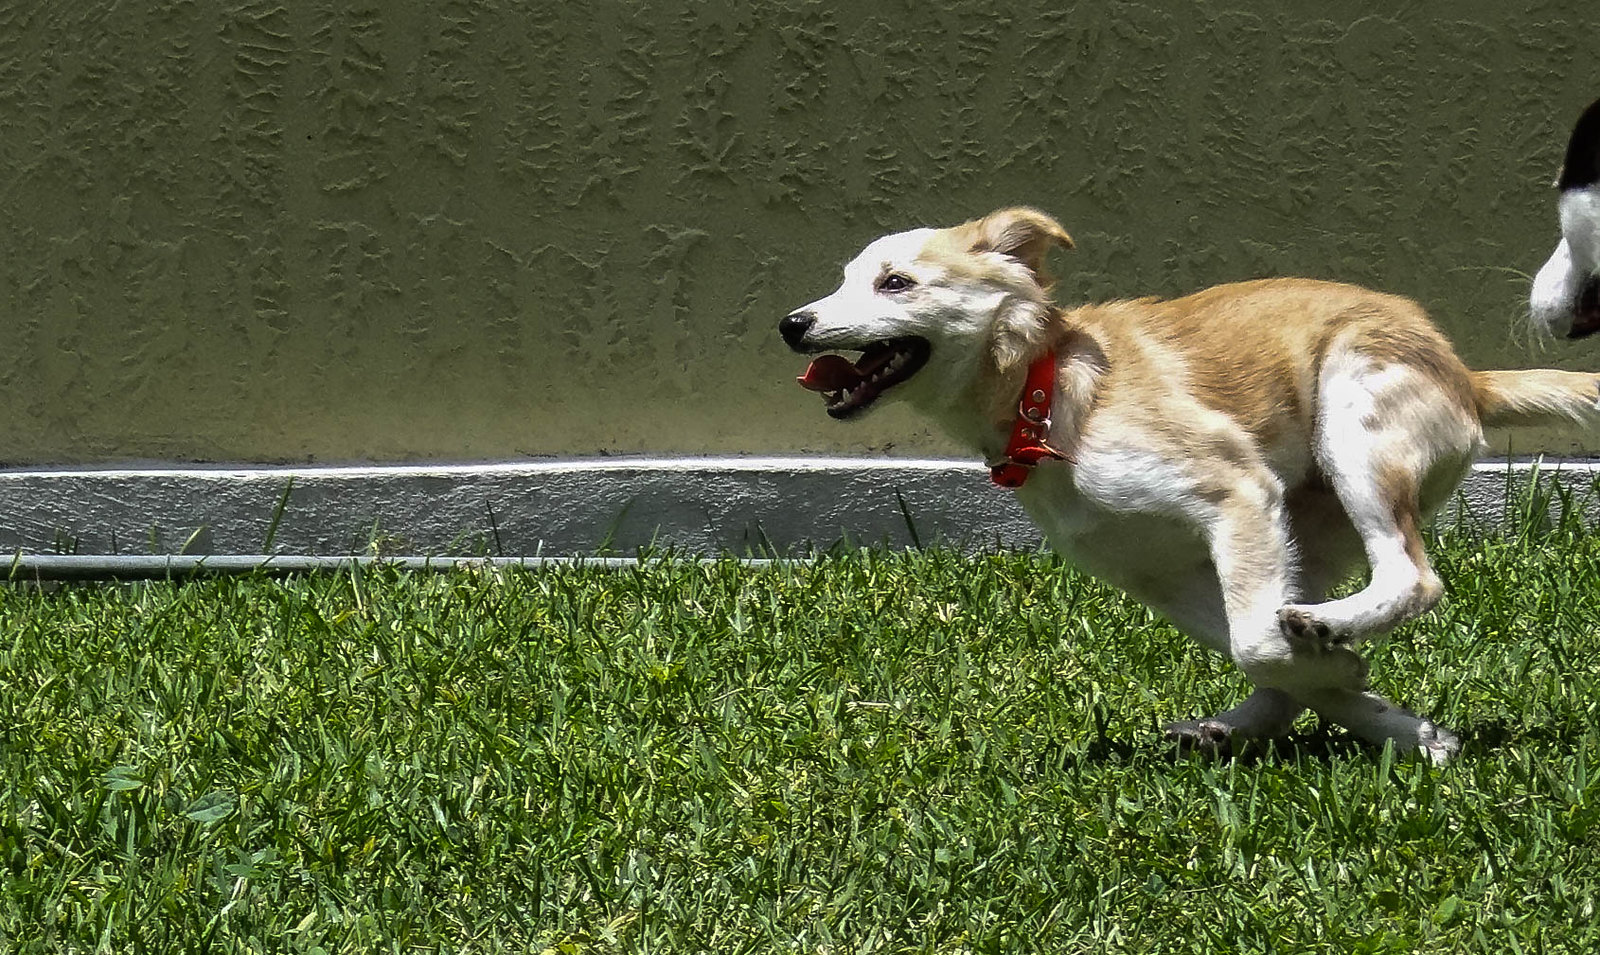dog: (773, 210, 1522, 786)
